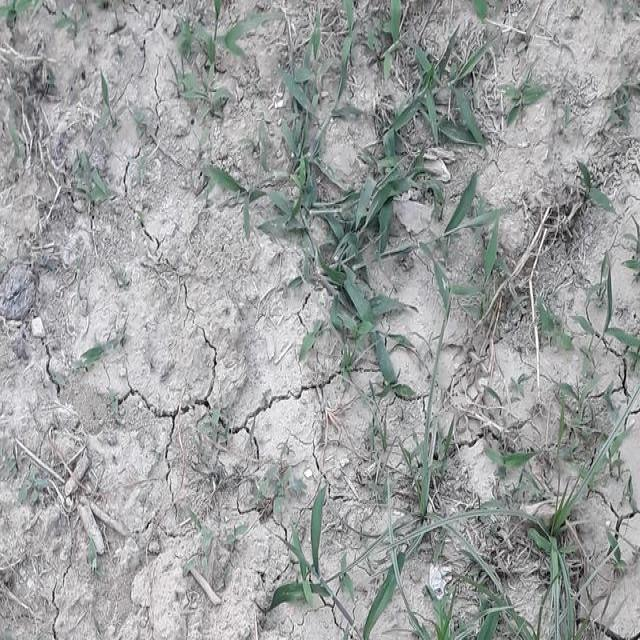weed: (254, 74, 493, 268), (521, 404, 603, 640), (261, 528, 395, 640), (340, 287, 399, 378), (188, 20, 275, 65), (603, 268, 635, 385)
